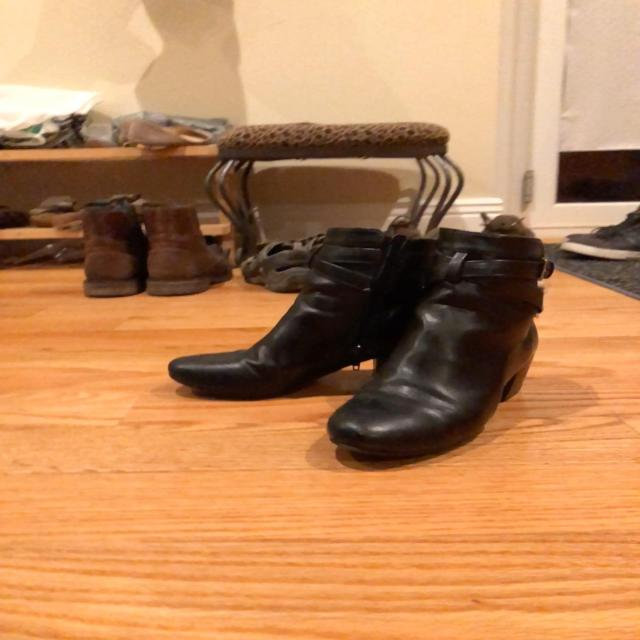shoe: (325, 217, 552, 471), (167, 229, 444, 402)
